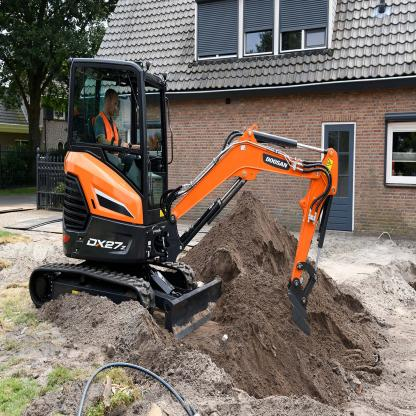excavator: (25, 39, 351, 365)
